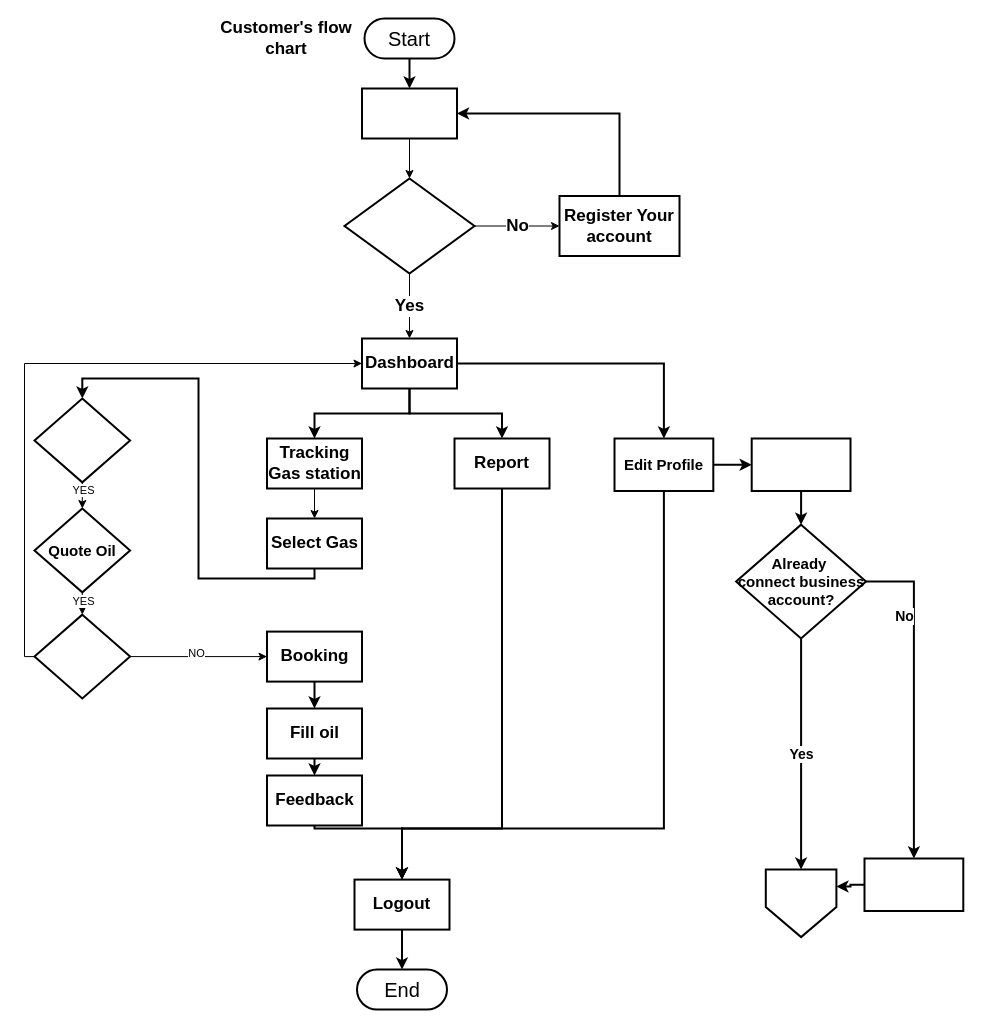
Image size: 982x1028. Some labels were removed from this diagram. The shapes that lost their labels are listed below. From the top down, each one's centre as x and y in pixels, then its label:
pixel 409 113: Login/ Register
pixel 409 225: Already Register?
pixel 82 440: Apporved?
pixel 800 464: Change to business account
pixel 82 656: Oil Limit Reach?
pixel 800 903: business account
pixel 913 884: Connect business account
